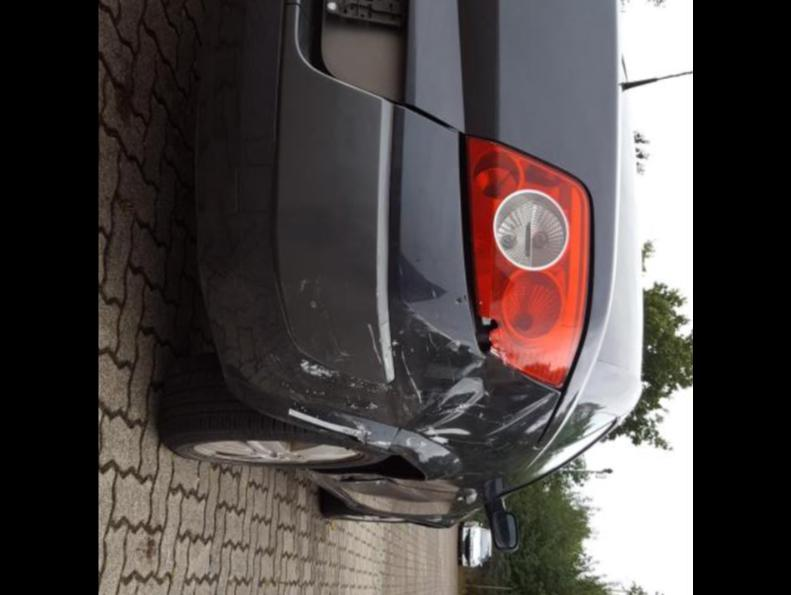Dent: (393, 356, 552, 452)
Scratch: (289, 336, 425, 416)
broken_lamp: (468, 293, 520, 374)
